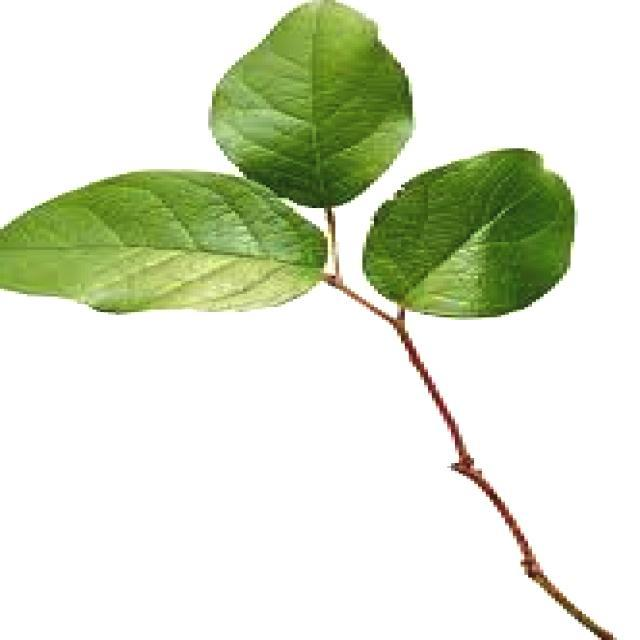leaf: (0, 167, 328, 314), (207, 0, 414, 207), (361, 146, 575, 318)
